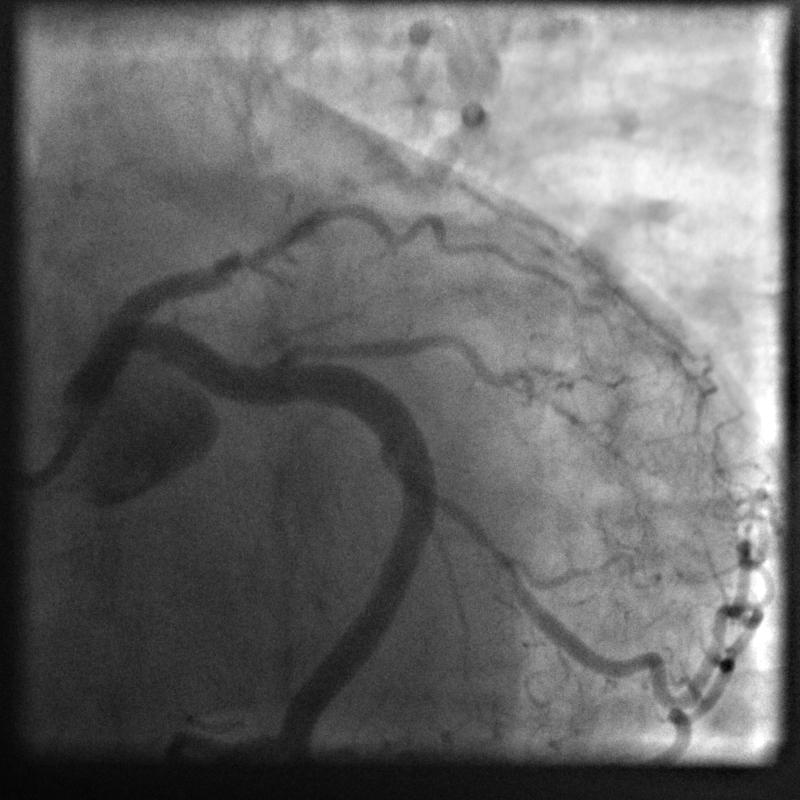Stenosis: (424, 477, 520, 582)
